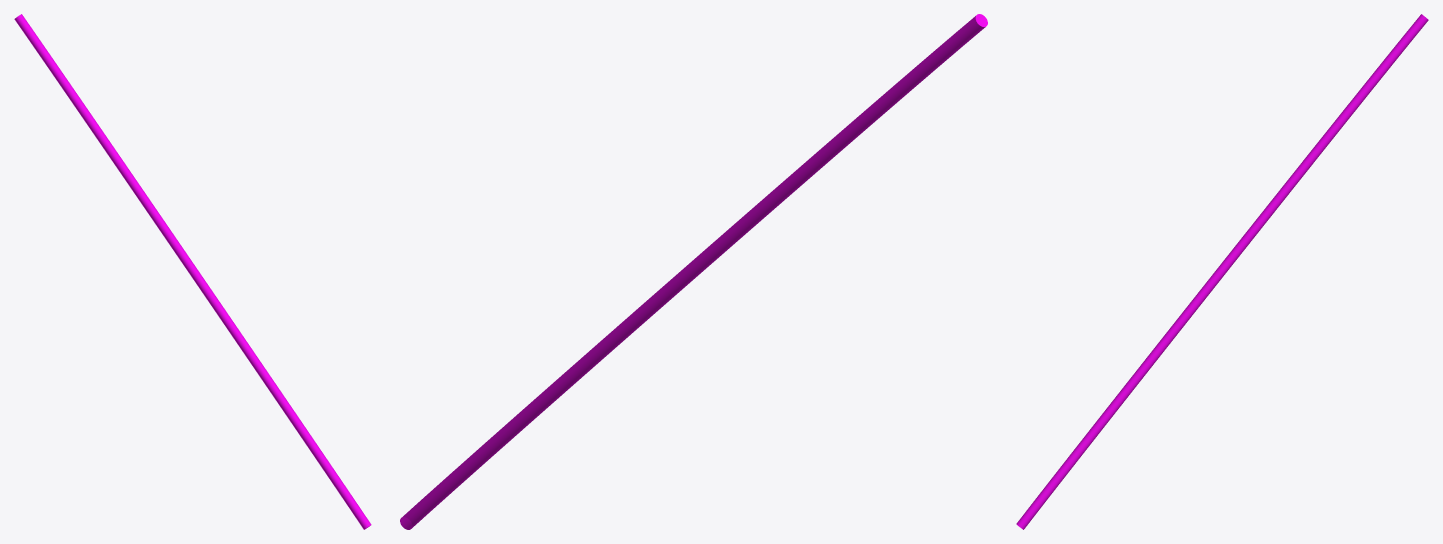
The model's file is Event_420094457_electron_0.fbx.
3 views of the same model, side by side, from view 1: azimuth 30°, elevation 25°; view 2: azimuth 210°, elevation 25°; view 3: azimuth 270°, elevation 25° (orthographic). The views are drawn at different scales.
Visible parts, largest first — view 1: Model; view 2: Model; view 3: Model.
Boxes of the visible parts, box(x1,y1,x2,y2) form: Model: box(14, 14, 371, 529); Model: box(400, 14, 987, 529); Model: box(1016, 14, 1428, 529).
Size of the model in its own units: 0.8321 by 2 by 1.72.
